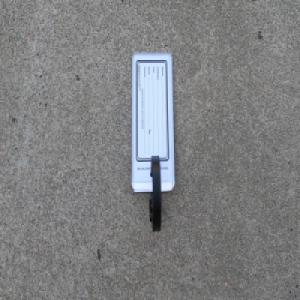LuggageTag: (129, 48, 177, 234)
